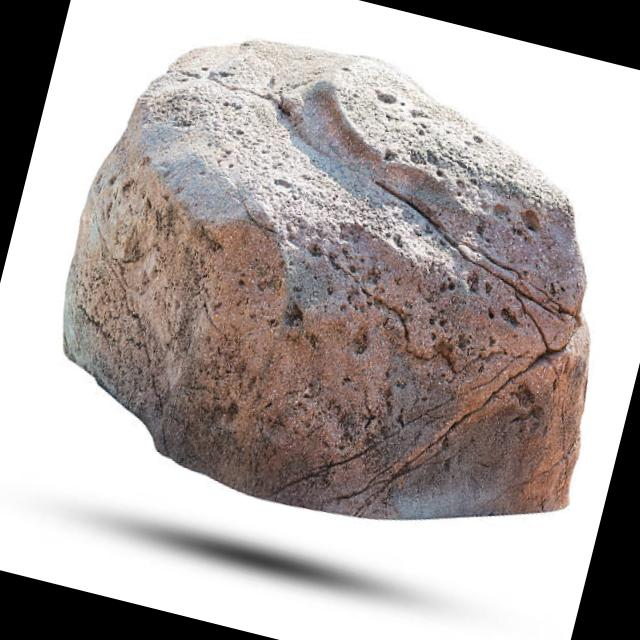stone: (63, 40, 588, 517)
